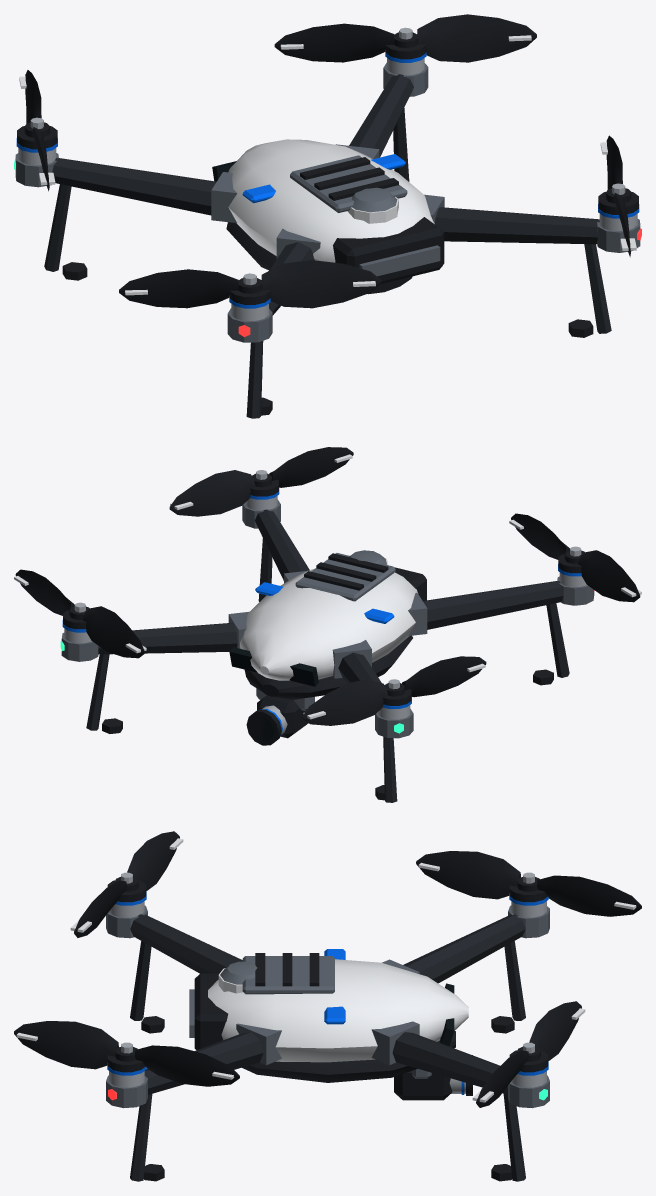
Rendered from drone.glb.
3 views of the same model, one above another, from view 1: azimuth 30°, elevation 25°; view 2: azimuth 150°, elevation 25°; view 3: azimuth 270°, elevation 25° (orthographic). The views are drawn at different scales.
Parts seen in each view (by area): view 1: body, rotor_1, rotor_3, rotor_2, rotor_0; view 2: body, rotor_0, rotor_2, rotor_1, rotor_3, gimbal; view 3: body, rotor_0, rotor_2, rotor_1, rotor_3, gimbal.
Boxes of the visible parts, <box> form: body: <box>14,44,641,418</box>; rotor_1: <box>119,260,381,308</box>; rotor_3: <box>274,14,536,62</box>; rotor_2: <box>600,135,636,257</box>; rotor_0: <box>19,70,55,191</box>; body: <box>60,479,594,802</box>; rotor_0: <box>302,656,486,725</box>; rotor_2: <box>169,447,353,516</box>; rotor_1: <box>509,513,641,602</box>; rotor_3: <box>14,569,146,658</box>; gimbal: <box>246,688,314,745</box>; body: <box>106,880,549,1181</box>; rotor_0: <box>416,851,641,916</box>; rotor_2: <box>14,1021,239,1086</box>; rotor_1: <box>70,831,183,937</box>; rotor_3: <box>472,1001,585,1107</box>; gimbal: <box>394,1055,472,1100</box>.
Size of the model in its own units: 0.8835 by 0.238 by 0.8835.
